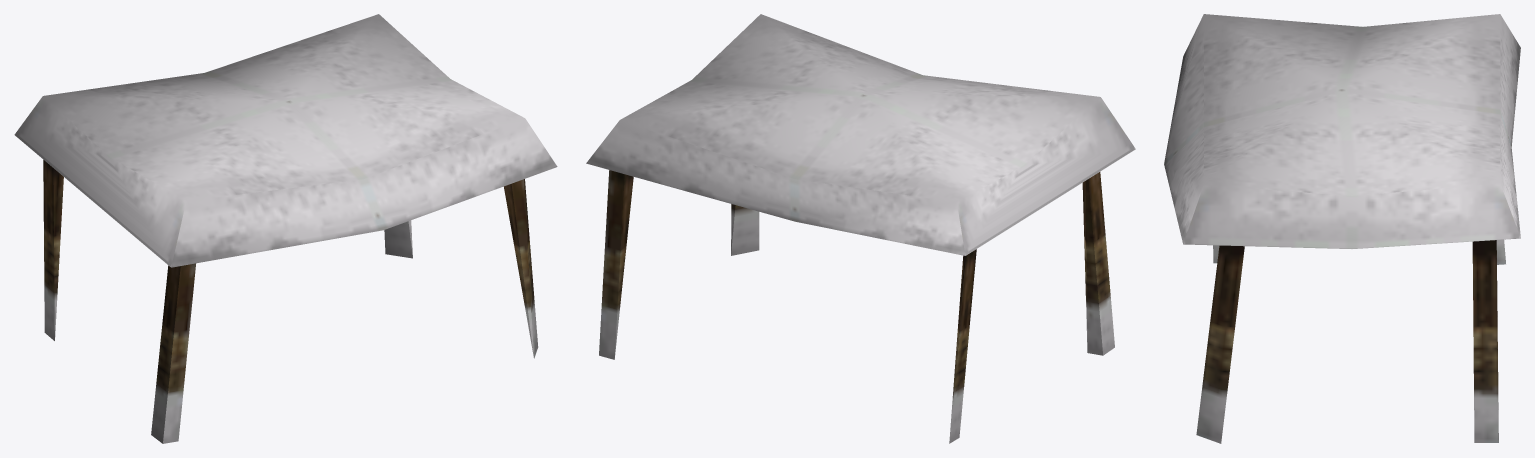
Rendered from nsm-general_obj_07_lod_01.glb.
3 views of the same model, side by side, from view 1: azimuth 30°, elevation 25°; view 2: azimuth 150°, elevation 25°; view 3: azimuth 270°, elevation 25° (orthographic). The views are drawn at different scales.
Parts seen in each view (by area): view 1: Object01; view 2: Object01; view 3: Object01.
Part boxes in pixels (bbox=[...]): Object01: bbox=[14, 14, 557, 443]; Object01: bbox=[586, 14, 1135, 443]; Object01: bbox=[1164, 14, 1520, 443].
Bounding box in the file's own units: 4.57 × 2.85 × 3.54.
1 material, 1 textured.
